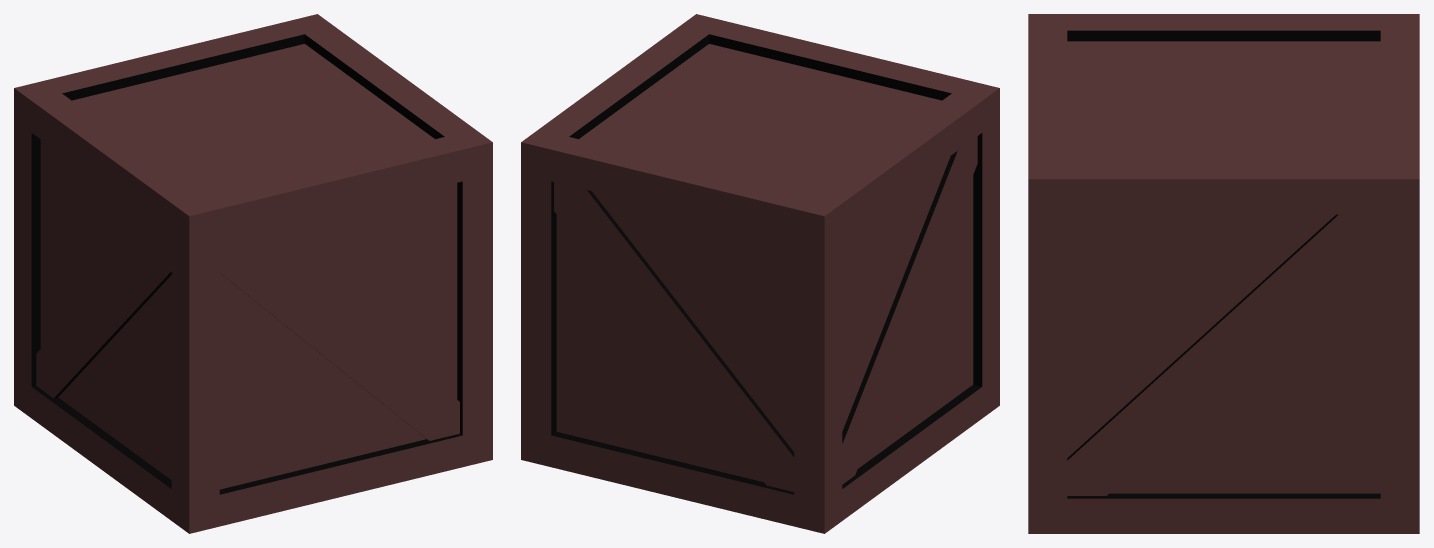
File: create.gltf
The picture shows the model from 3 angles, left to right: view 1: azimuth 30°, elevation 25°; view 2: azimuth 150°, elevation 25°; view 3: azimuth 270°, elevation 25°; orthographic projection. The views are drawn at different scales.
Visible parts, largest first — view 1: Cube; view 2: Cube; view 3: Cube.
Part boxes in pixels (left/top/right/bottom): Cube: left=14, top=14, right=492, bottom=533; Cube: left=521, top=14, right=999, bottom=533; Cube: left=1028, top=14, right=1419, bottom=533.
Bounding box in the file's own units: 1 × 1 × 1.
